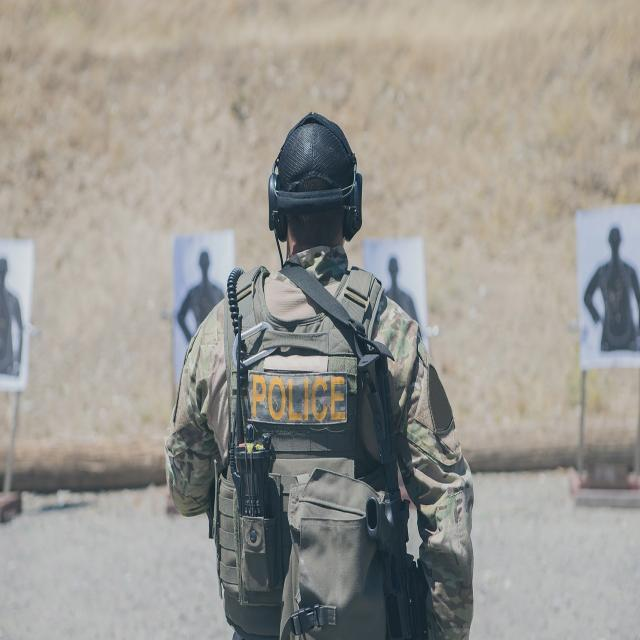Gun: (359, 352, 429, 639)
